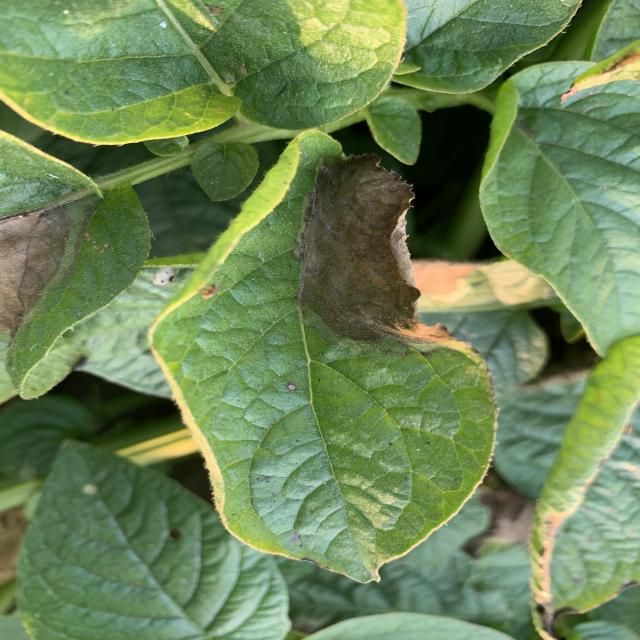lateblight: (300, 154, 452, 341), (0, 195, 102, 335)
